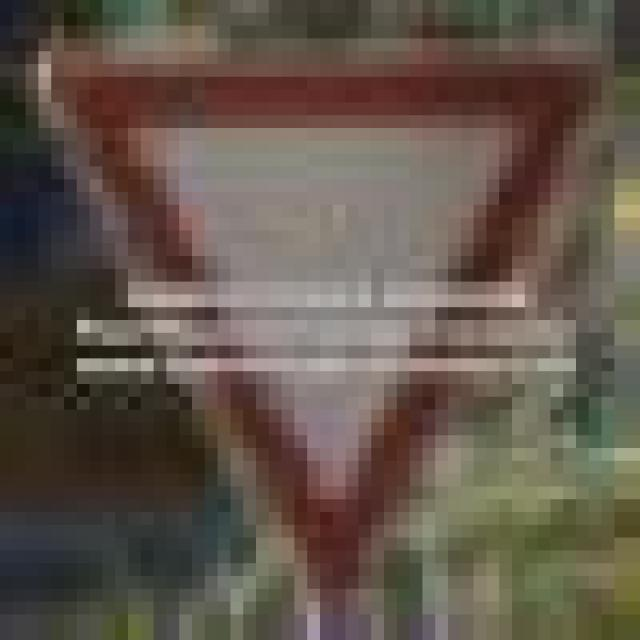gap_in_median: (26, 39, 602, 564)
